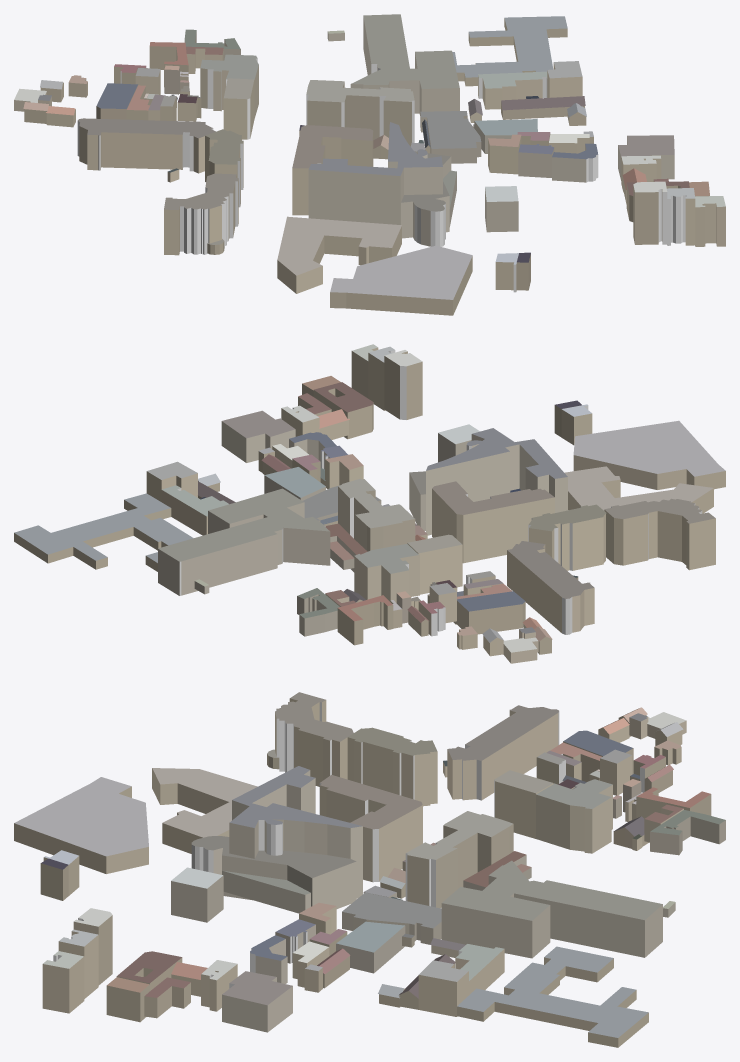
The picture shows the model from 3 angles, top to bottom: view 1: azimuth 30°, elevation 25°; view 2: azimuth 150°, elevation 25°; view 3: azimuth 270°, elevation 25°; orthographic projection. The views are drawn at different scales.
Visible parts, largest first — view 1: tuile; view 2: tuile; view 3: tuile.
Boxes of the visible parts, bbox=[...] form: tuile: bbox=[14, 14, 725, 315]; tuile: bbox=[14, 344, 725, 663]; tuile: bbox=[14, 692, 725, 1047].
Bounding box in the file's own units: 279 × 33.79 × 282.
